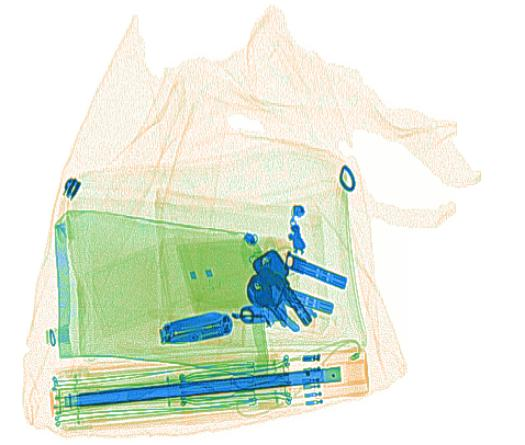knife: (160, 312, 233, 345)
